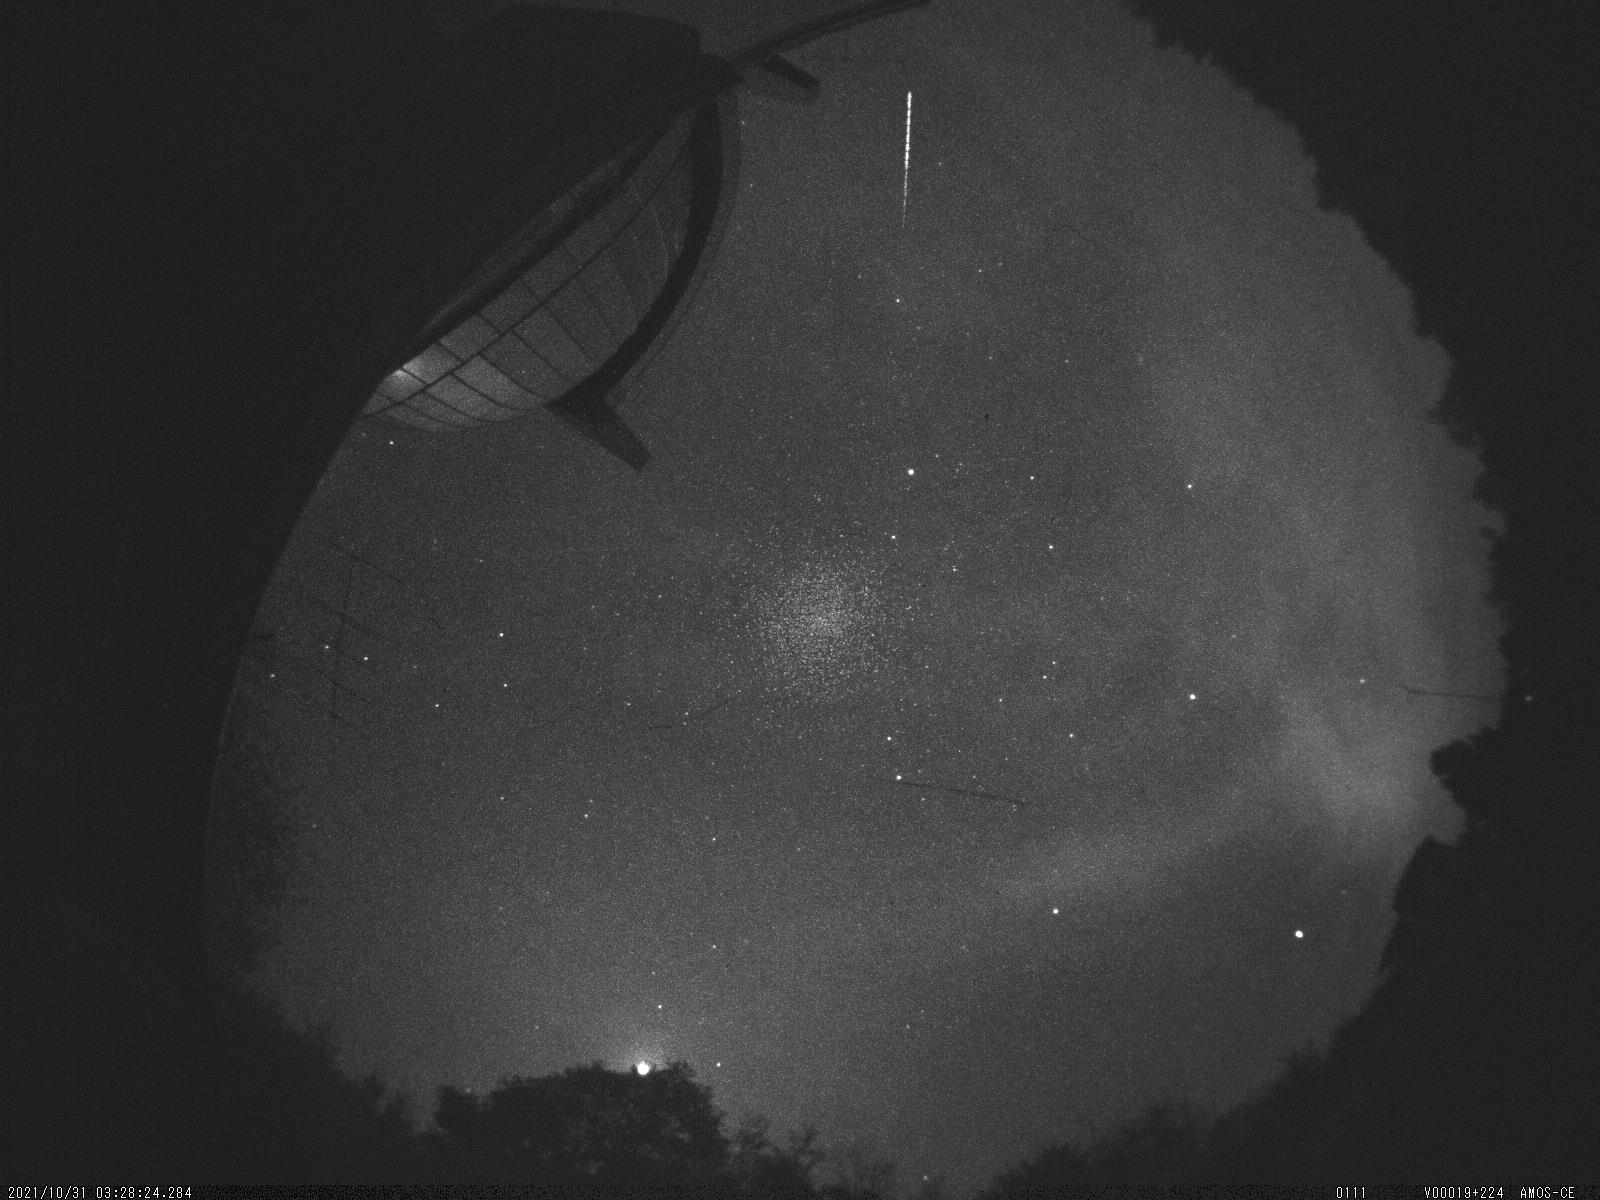Meteor: (891, 77, 921, 242)
